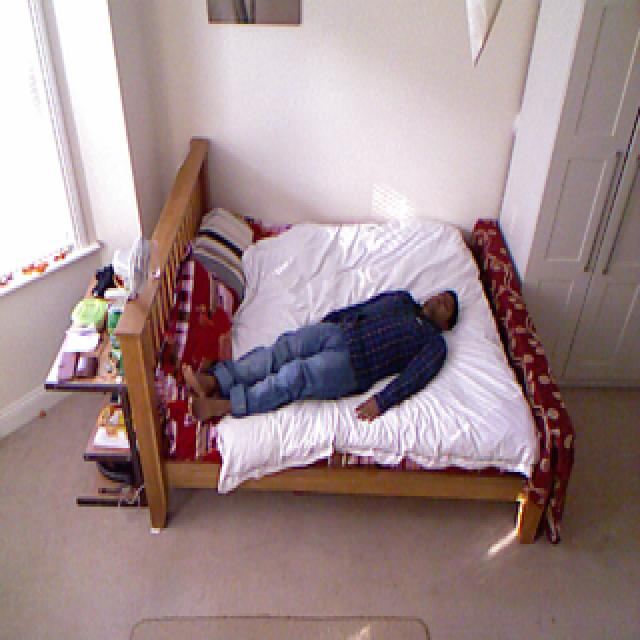lying: (182, 289, 458, 425)
